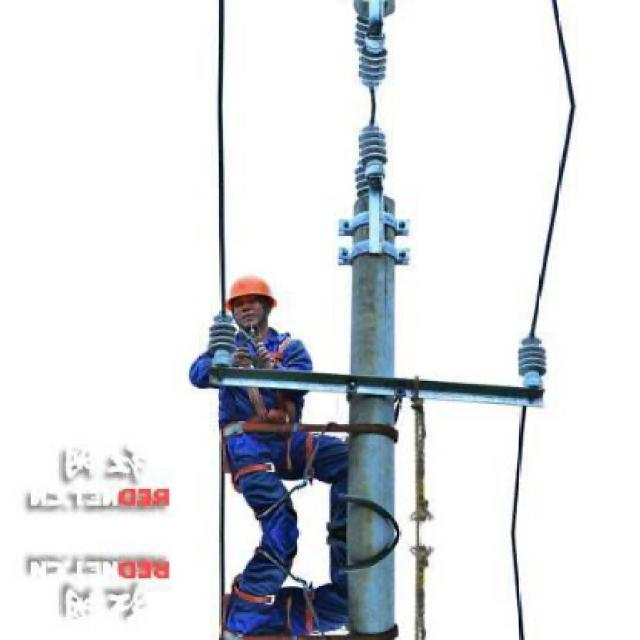helmet: (224, 268, 278, 333)
